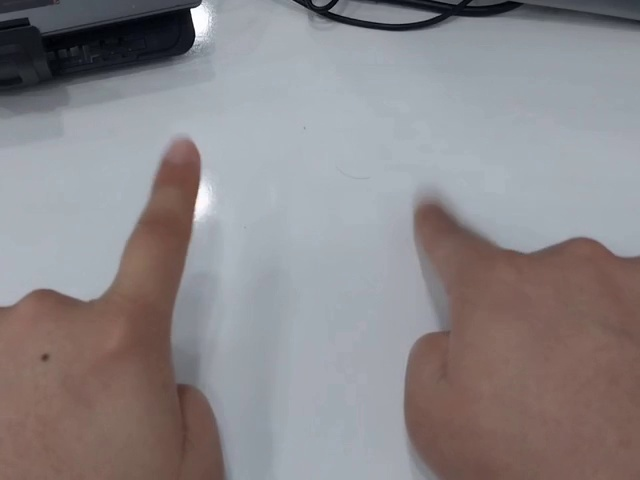fingers: (152, 135, 202, 198), (412, 199, 460, 246)
